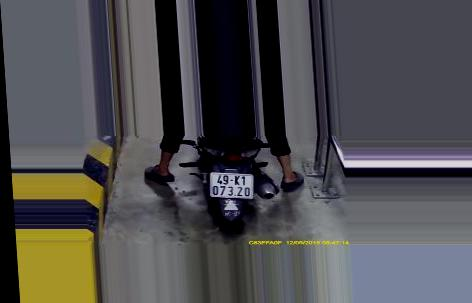License_Plate: (206, 171, 257, 203)
